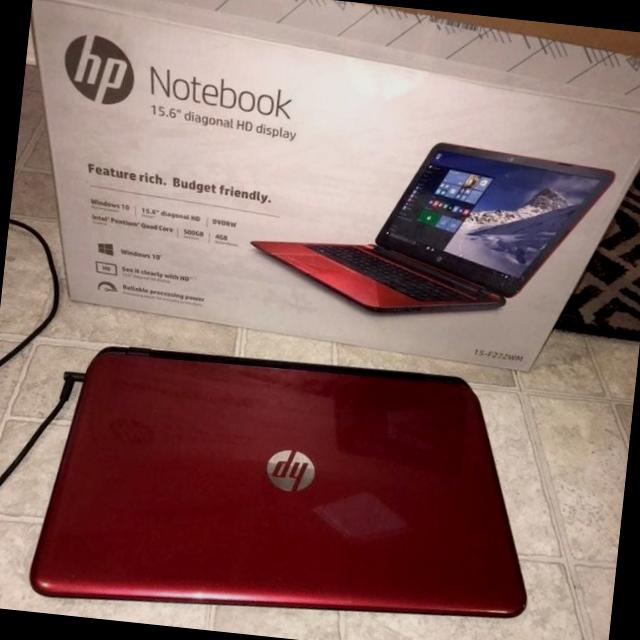laptop: (38, 334, 552, 640)
